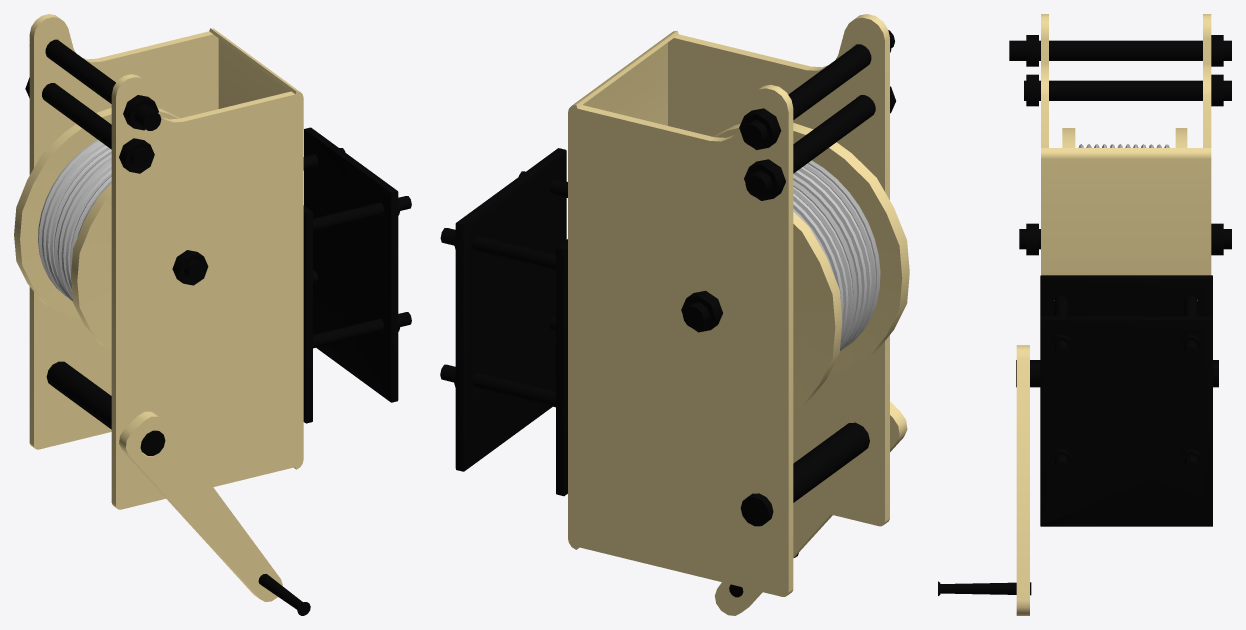
File: Winch(817SR).fbx
3 views of the same model, side by side, from view 1: azimuth 30°, elevation 25°; view 2: azimuth 150°, elevation 25°; view 3: azimuth 270°, elevation 25° (orthographic). The views are drawn at different scales.
Visible parts, largest first — view 1: SM_PN817SR, SM_PN817SR .001; view 2: SM_PN817SR, SM_PN817SR .001; view 3: SM_PN817SR, SM_PN817SR .001.
Boxes of the visible parts, box(x1,y1,x2,y2) form: SM_PN817SR: box(14, 14, 411, 509); SM_PN817SR .001: box(46, 361, 310, 615); SM_PN817SR: box(440, 14, 909, 596); SM_PN817SR .001: box(715, 401, 907, 615); SM_PN817SR: box(1009, 14, 1231, 526); SM_PN817SR .001: box(938, 345, 1218, 615).
Bounding box in the file's own units: 22.77 × 35.91 × 17.77.
